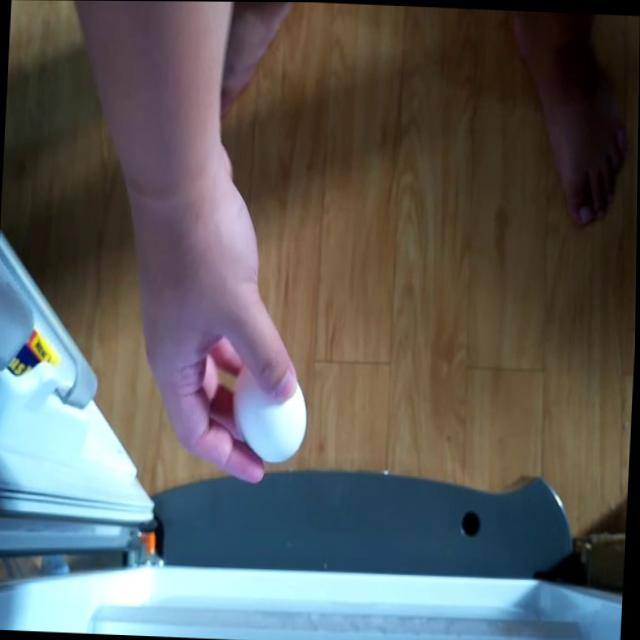egg: (239, 361, 306, 457)
